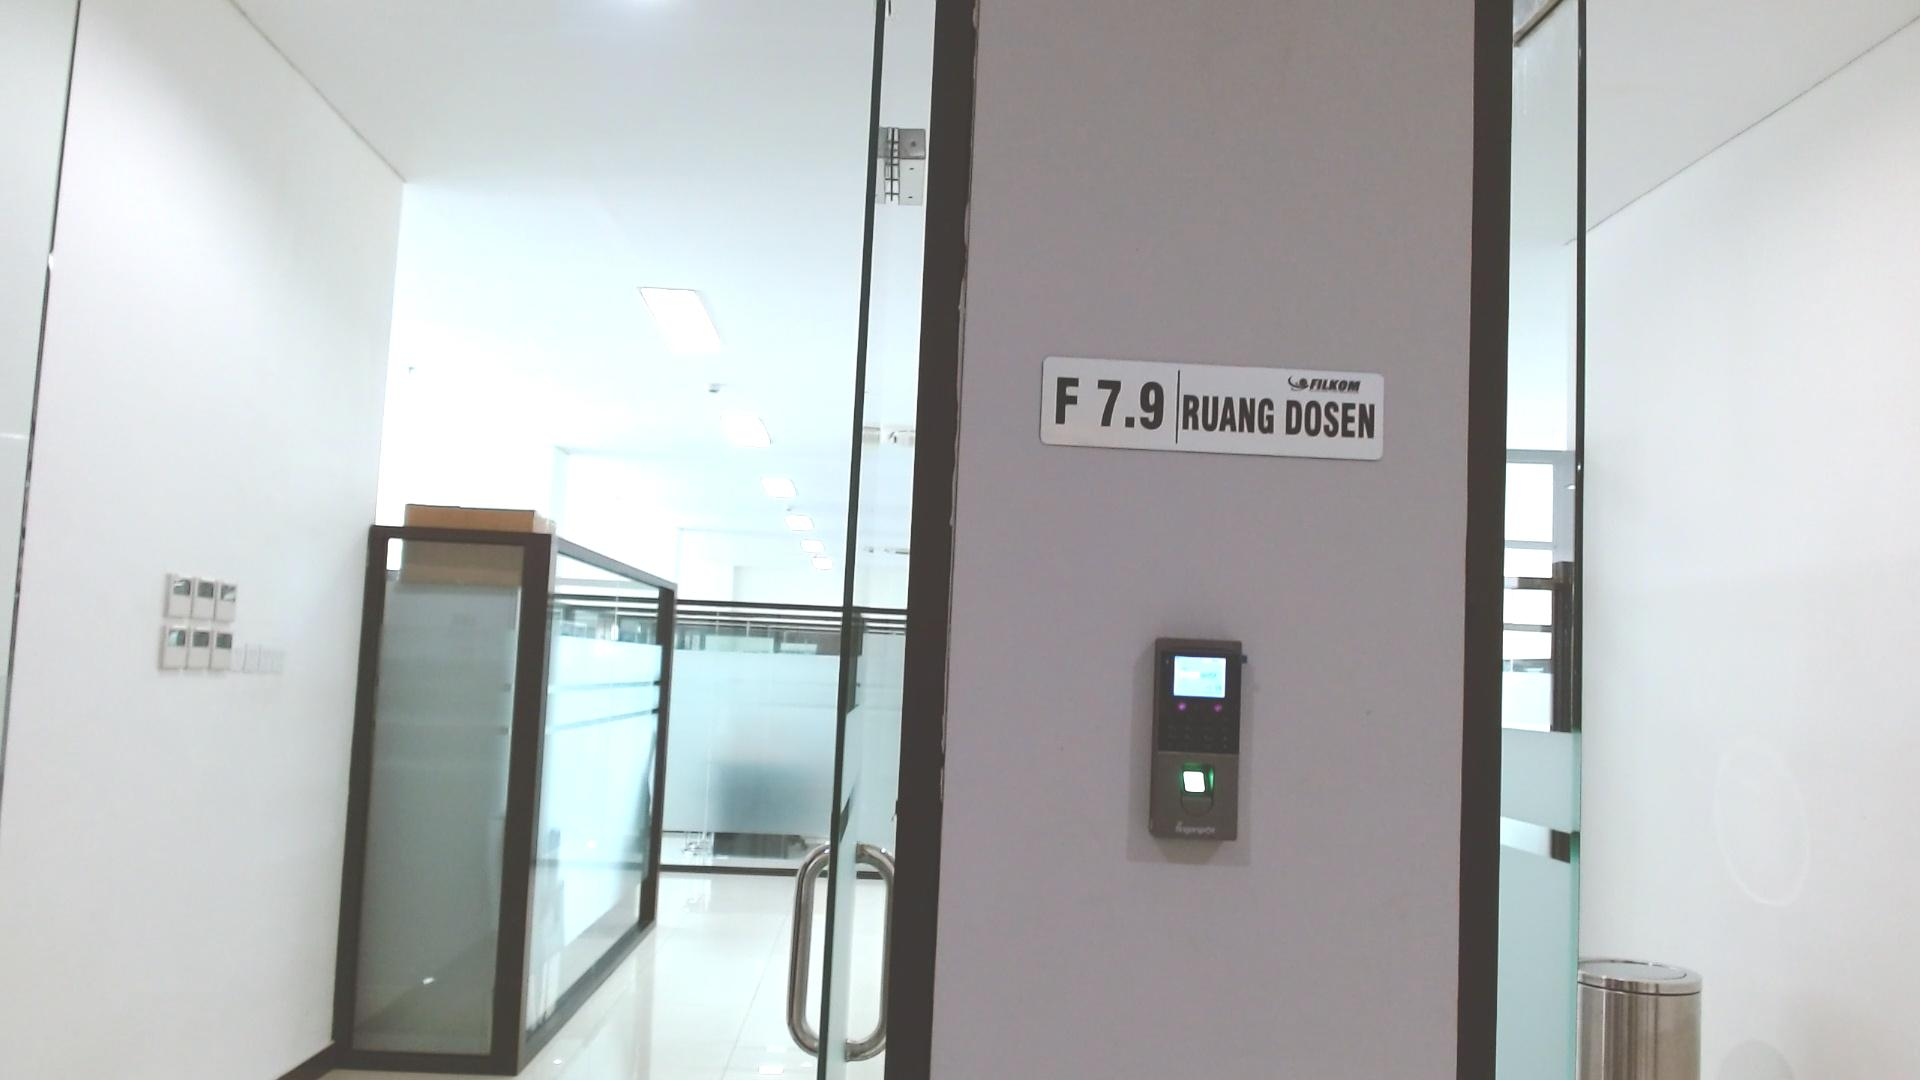plate: (1039, 355, 1385, 462)
